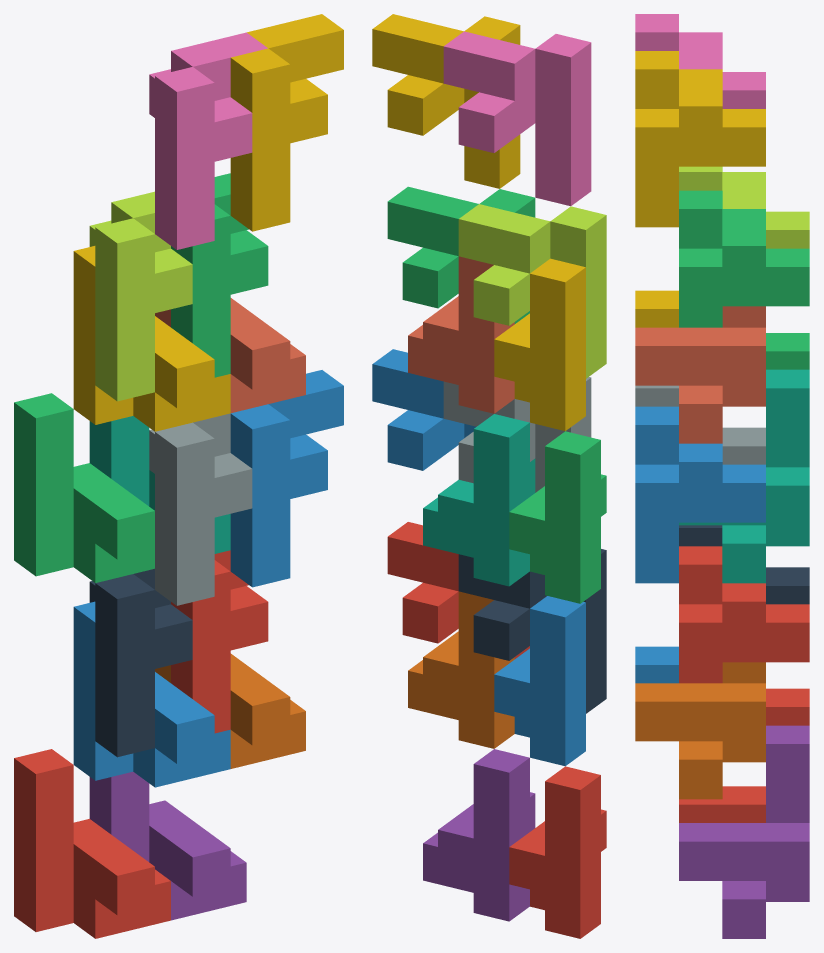
The model's file is tiling.obj.
The picture shows the model from 3 angles, left to right: view 1: azimuth 30°, elevation 25°; view 2: azimuth 150°, elevation 25°; view 3: azimuth 270°, elevation 25°; orthographic projection. The views are drawn at different scales.
Parts seen in each view (by area): view 1: copy_1_domain_1, copy_1_domain_3, copy_2_domain_4, copy_2_domain_8, copy_2_domain_6, copy_2_domain_3, copy_2_domain_2, copy_2_domain_1, copy_1_domain_5, copy_1_domain_4, copy_1_domain_2, copy_2_domain_7 (+4 smaller); view 2: copy_2_domain_4, copy_2_domain_3, copy_1_domain_5, copy_1_domain_7, copy_1_domain_1, copy_1_domain_3, copy_1_domain_4, copy_1_domain_2, copy_2_domain_8, copy_1_domain_6, copy_1_domain_8, copy_2_domain_7 (+4 smaller); view 3: copy_1_domain_5, copy_2_domain_8, copy_2_domain_6, copy_2_domain_7, copy_1_domain_6, copy_1_domain_8, copy_2_domain_5, copy_1_domain_7, copy_2_domain_4, copy_2_domain_3, copy_1_domain_1, copy_2_domain_1 (+4 smaller).
Part boxes in pixels (x1,y1,x2,y2): copy_1_domain_1: (14, 749, 170, 938); copy_1_domain_3: (14, 393, 154, 582); copy_2_domain_4: (149, 32, 267, 249); copy_2_domain_8: (230, 14, 343, 231); copy_2_domain_6: (230, 370, 343, 587); copy_2_domain_3: (89, 191, 192, 401); copy_2_domain_2: (149, 413, 252, 605); copy_2_domain_1: (89, 568, 192, 757); copy_1_domain_5: (89, 772, 246, 920); copy_1_domain_4: (73, 246, 230, 431); copy_1_domain_2: (73, 601, 230, 787); copy_2_domain_7: (171, 173, 268, 377); copy_2_domain_4: (443, 31, 591, 206); copy_2_domain_3: (458, 204, 606, 378); copy_1_domain_5: (423, 749, 535, 921); copy_1_domain_7: (423, 414, 535, 586); copy_1_domain_1: (509, 766, 606, 938); copy_1_domain_3: (509, 431, 606, 603); copy_1_domain_4: (494, 258, 585, 431); copy_1_domain_2: (494, 596, 585, 766); copy_2_domain_8: (372, 14, 520, 188); copy_1_domain_6: (408, 591, 514, 748); copy_1_domain_8: (408, 256, 514, 413); copy_2_domain_7: (387, 186, 535, 323); copy_1_domain_5: (679, 725, 809, 938); copy_2_domain_8: (635, 51, 765, 227); copy_2_domain_6: (635, 406, 765, 583); copy_2_domain_7: (679, 190, 809, 327); copy_1_domain_6: (635, 662, 765, 799); copy_1_domain_8: (635, 306, 765, 443); copy_2_domain_5: (679, 546, 809, 683); copy_1_domain_7: (679, 369, 809, 583); copy_2_domain_4: (635, 14, 765, 108); copy_2_domain_3: (679, 166, 809, 248); copy_1_domain_1: (679, 688, 809, 822); copy_2_domain_1: (679, 525, 809, 604).
Bounding box in the file's own units: 7 × 22 × 4.
